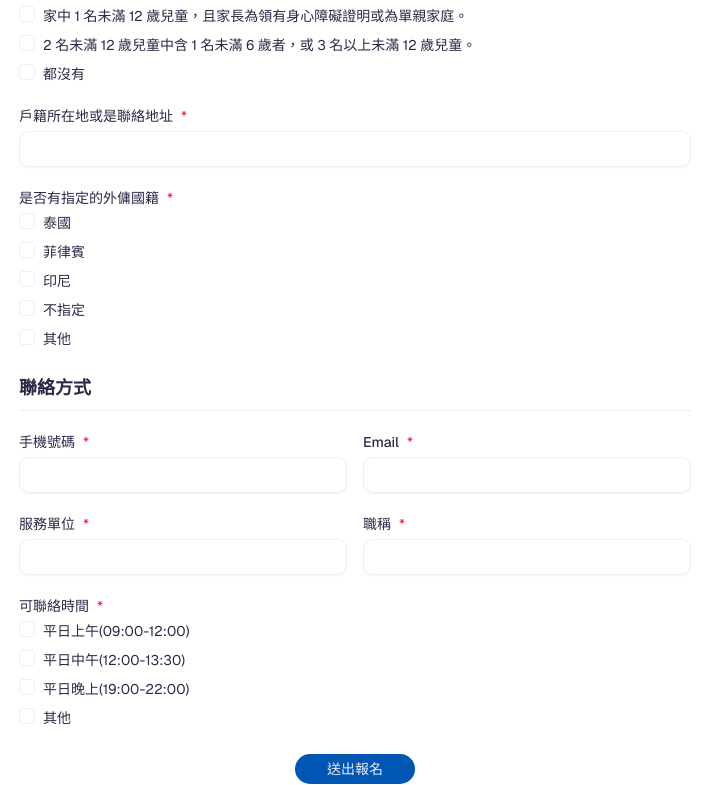
ApplicationForm › shows validation errors when submitting empty form
(page scrolled)
Click the button "送出報名". click: (355, 769)
box: [294,753,416,784]
(page scrolled)
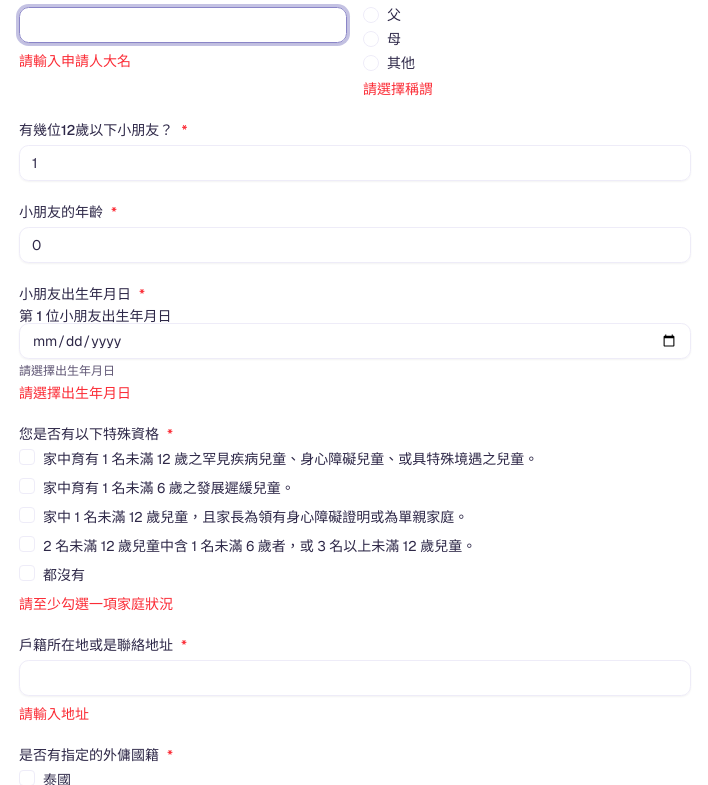
expect the text "請輸入申請人大名" is shown: met, box [19,52,131,70]
